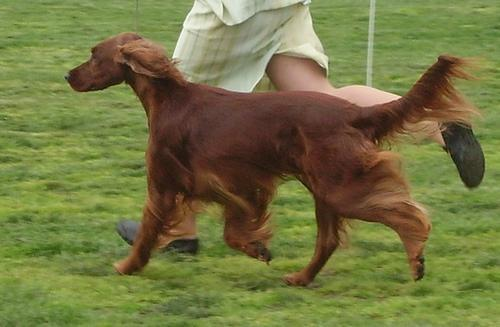Irish_setter: (64, 32, 475, 292)
